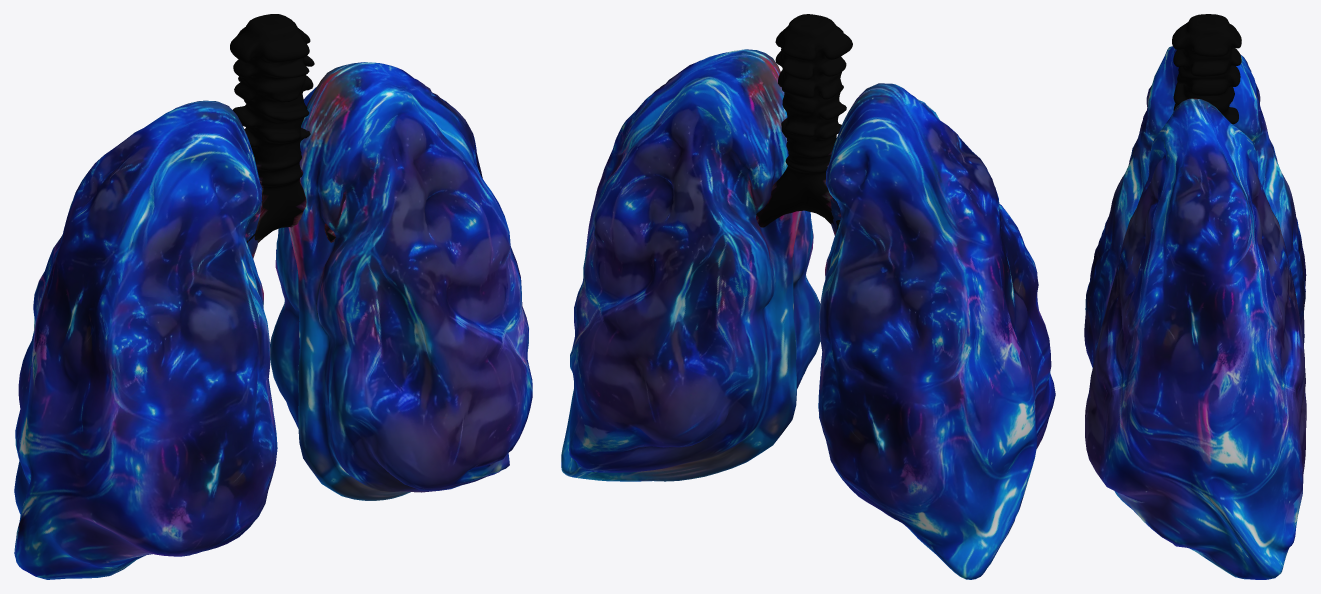
Rendered from poumons.glb.
3 views of the same model, side by side, from view 1: azimuth 30°, elevation 25°; view 2: azimuth 150°, elevation 25°; view 3: azimuth 270°, elevation 25° (orthographic). The views are drawn at different scales.
Visible parts, largest first — view 1: Verre, Vaisseaux; view 2: Verre, Vaisseaux; view 3: Verre, Vaisseaux.
Boxes of the visible parts, box(x1,y1,x2,y2) form: Verre: box(14, 62, 532, 579); Vaisseaux: box(230, 14, 335, 242); Verre: box(561, 49, 1055, 579); Vaisseaux: box(756, 14, 852, 229); Verre: box(1084, 46, 1306, 579); Vaisseaux: box(1172, 14, 1241, 124).
Bounding box in the file's own units: 3.4 × 3.55 × 1.52.
Materials: 2 (2 with a texture image).
